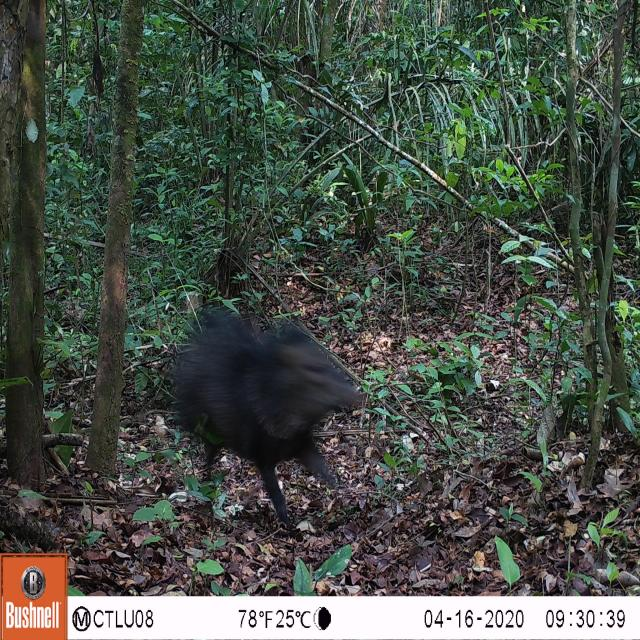Collared Peccary: (169, 302, 375, 544)
